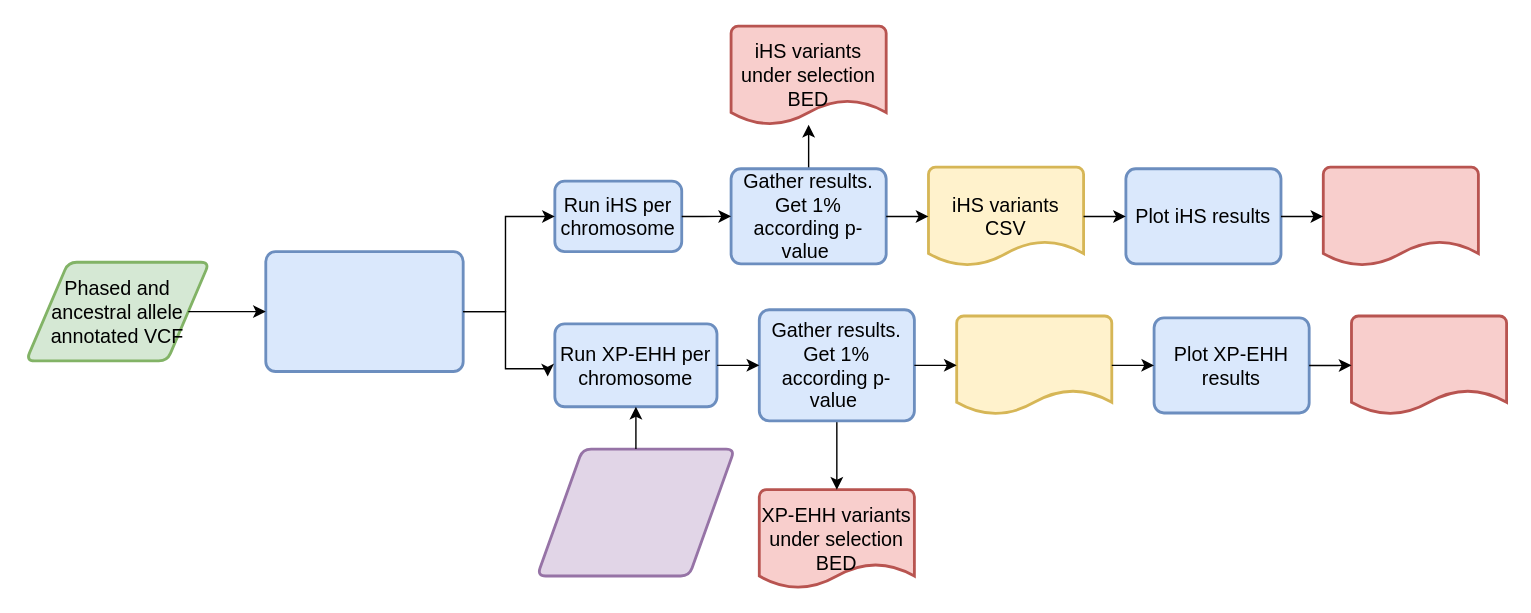
The diagram is 1531 pixels wide and 613 high, and some of its shapes have lost their labels. Here are the shapes that lost their labels. From the top down, the box of each, then its label:
(1321, 165, 1479, 266): PNG iHS results
(264, 250, 464, 372): Extract autosomes Filter: - Min AF 5% - Missing 5%
(955, 314, 1112, 415): XP-EHH variants CSV
(1349, 314, 1507, 415): PNG XP-EHH results
(535, 447, 735, 577): Phased and ancestral allele annotated ingroup VCF
